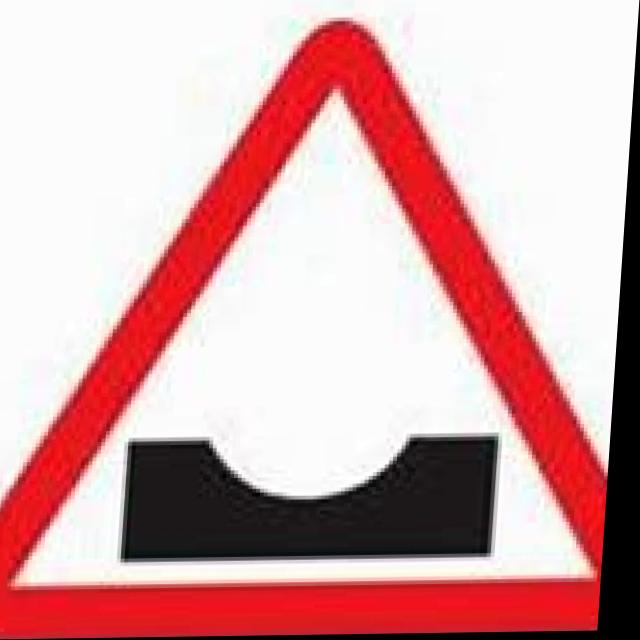DANGEROUS_DIP: (0, 8, 639, 640)
